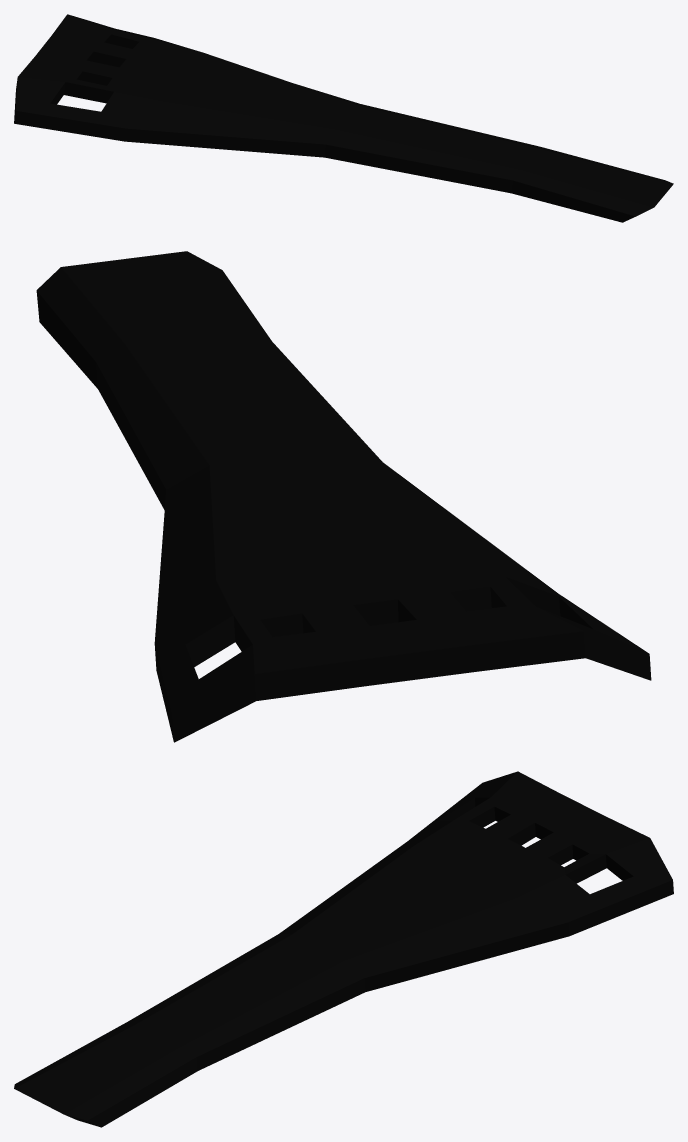
Rendered from 2Stemme_Sort.fbx.
The picture shows the model from 3 angles, top to bottom: view 1: azimuth 30°, elevation 25°; view 2: azimuth 150°, elevation 25°; view 3: azimuth 270°, elevation 25°; orthographic projection. The views are drawn at different scales.
Visible parts, largest first — view 1: Sortende_1.002; view 2: Sortende_1.002; view 3: Sortende_1.002.
Boxes of the visible parts, x1,y1,x2,y2 form: Sortende_1.002: [14, 14, 673, 222]; Sortende_1.002: [36, 251, 651, 742]; Sortende_1.002: [14, 771, 673, 1127].
Bounding box in the file's own units: 135 × 23.77 × 140.
